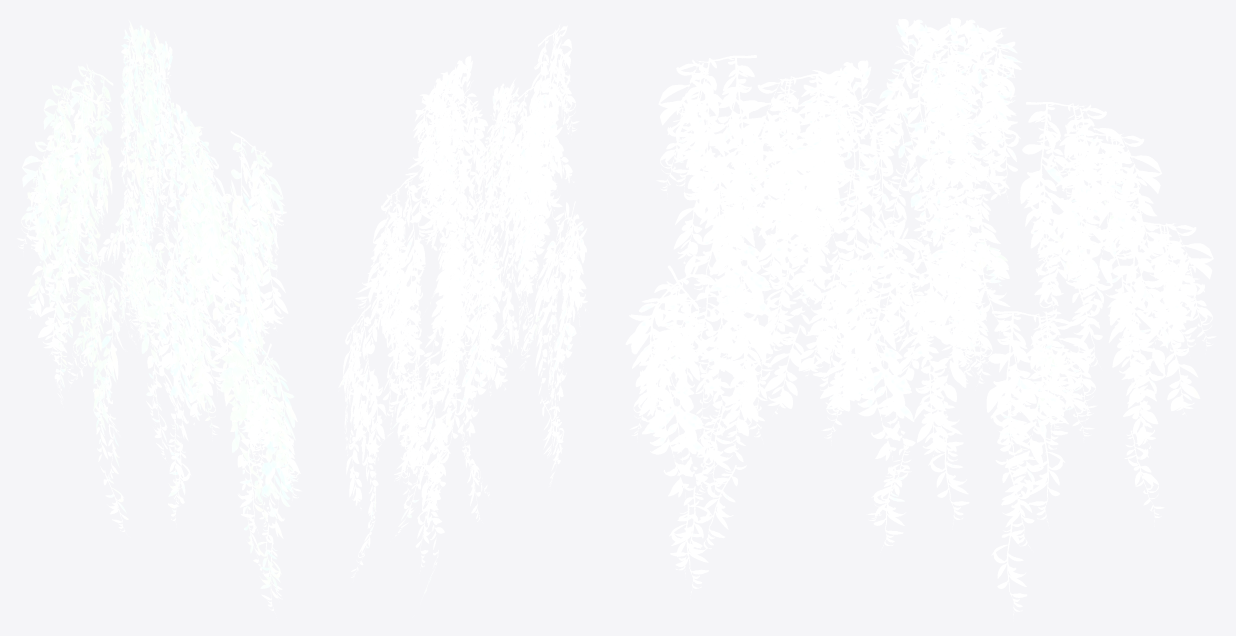
3 views of the same model, side by side, from view 1: azimuth 30°, elevation 25°; view 2: azimuth 150°, elevation 25°; view 3: azimuth 270°, elevation 25° (orthographic). The views are drawn at different scales.
Visible parts, largest first — view 1: SM_BM_Climbing_A_08_LOD0; view 2: SM_BM_Climbing_A_08_LOD0; view 3: SM_BM_Climbing_A_08_LOD0.
Part boxes in pixels (x1,y1,x2,y2): SM_BM_Climbing_A_08_LOD0: (17,20,301,617); SM_BM_Climbing_A_08_LOD0: (338,24,587,599); SM_BM_Climbing_A_08_LOD0: (625,18,1216,618).
Bounding box in the file's own units: 0.7971 × 5.72 × 5.15.
1 material, 1 textured.
